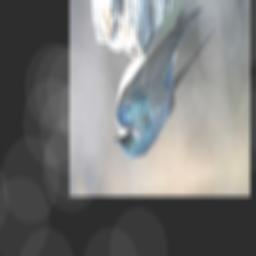Swallow: (108, 2, 223, 162)
